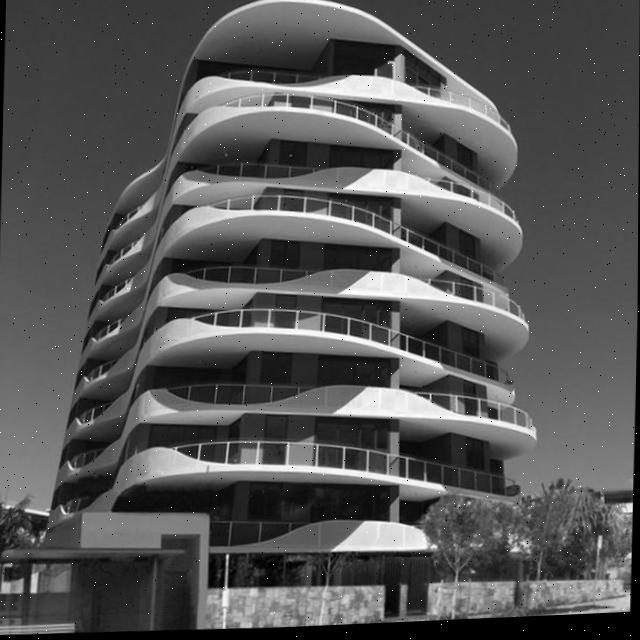building: (77, 0, 538, 596)
